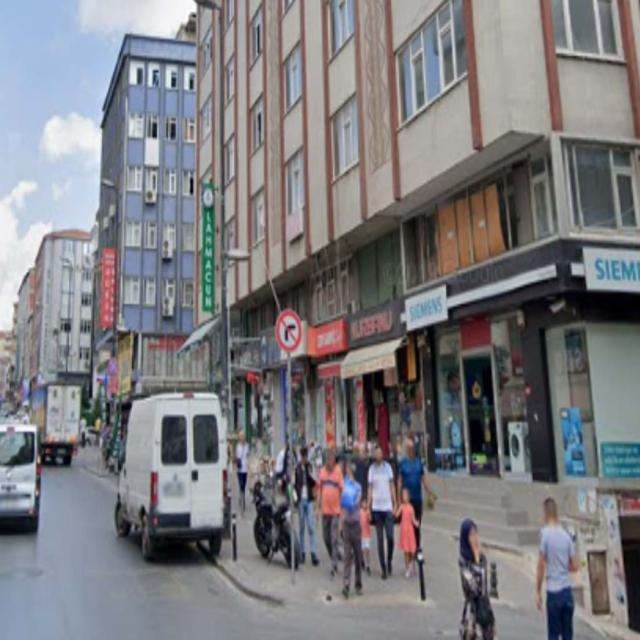sagadonulmez: (276, 310, 305, 350)
